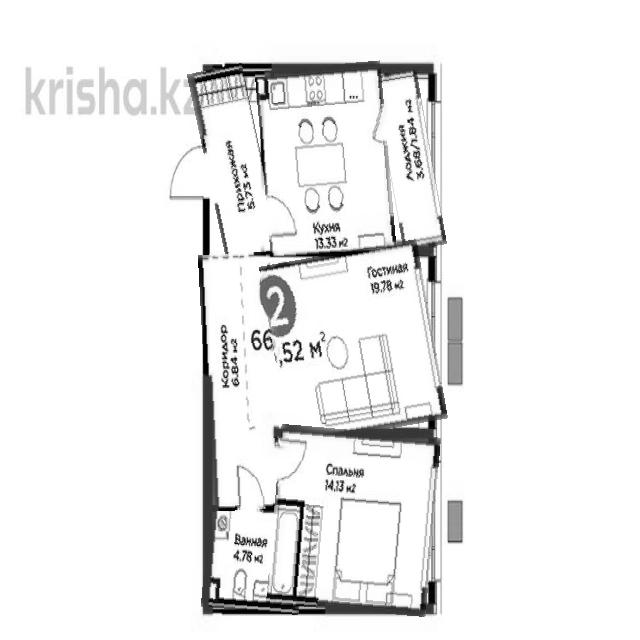balcony: (381, 70, 439, 250)
bathroom: (203, 507, 305, 613)
hallway: (202, 252, 280, 511), (196, 65, 272, 258)
kitchen: (259, 62, 392, 254)
living_room: (267, 246, 441, 440), (270, 428, 438, 614)
